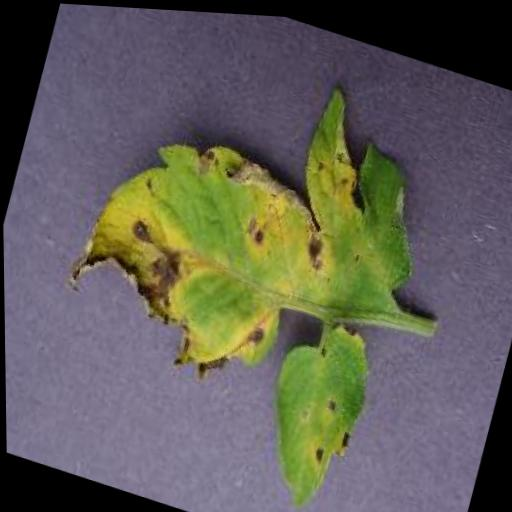Septoria: (28, 18, 456, 512)
